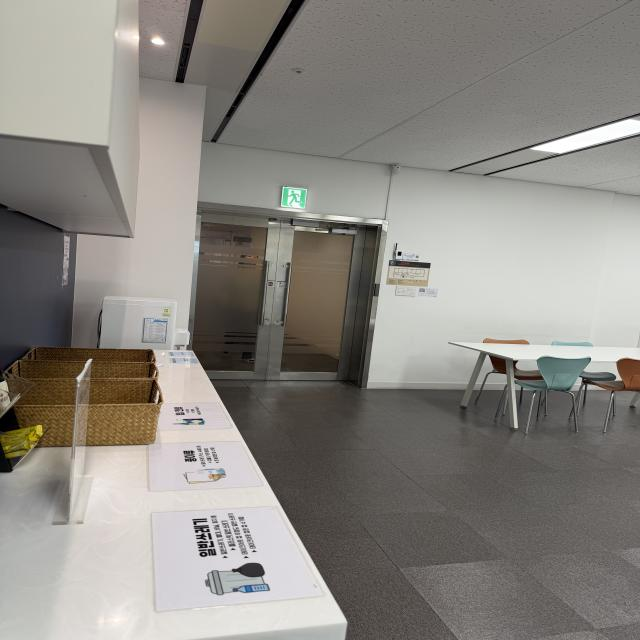rear_door: (194, 215, 358, 380)
